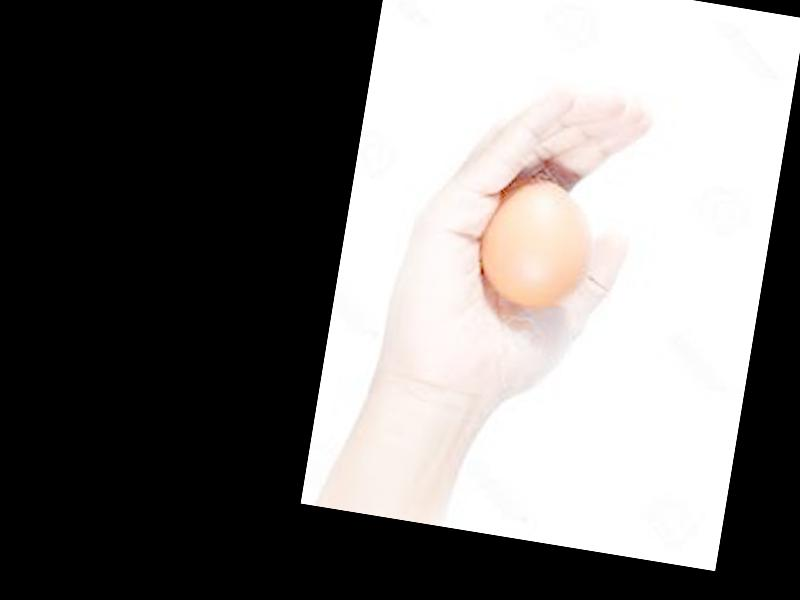Eggs: (475, 174, 600, 314)
